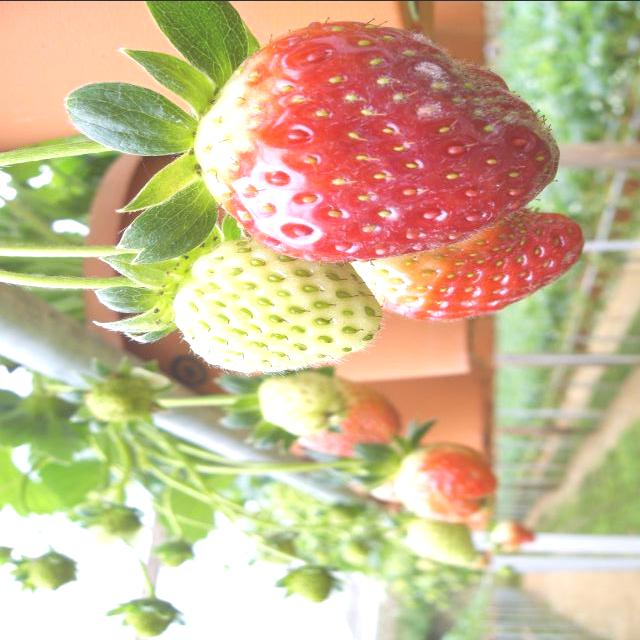ripe: (188, 13, 558, 259), (343, 188, 588, 332), (294, 380, 406, 462), (386, 443, 498, 523), (491, 515, 542, 546)
unripe: (175, 234, 384, 374), (251, 371, 354, 438), (394, 511, 484, 572), (275, 556, 350, 609), (106, 591, 184, 640), (86, 372, 159, 423), (8, 550, 76, 595), (147, 536, 202, 570)
